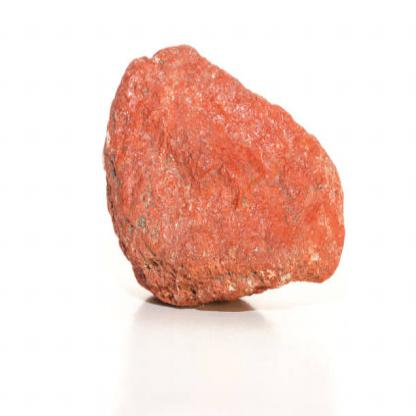Sedimentary_Sandstone: (98, 35, 352, 309)
